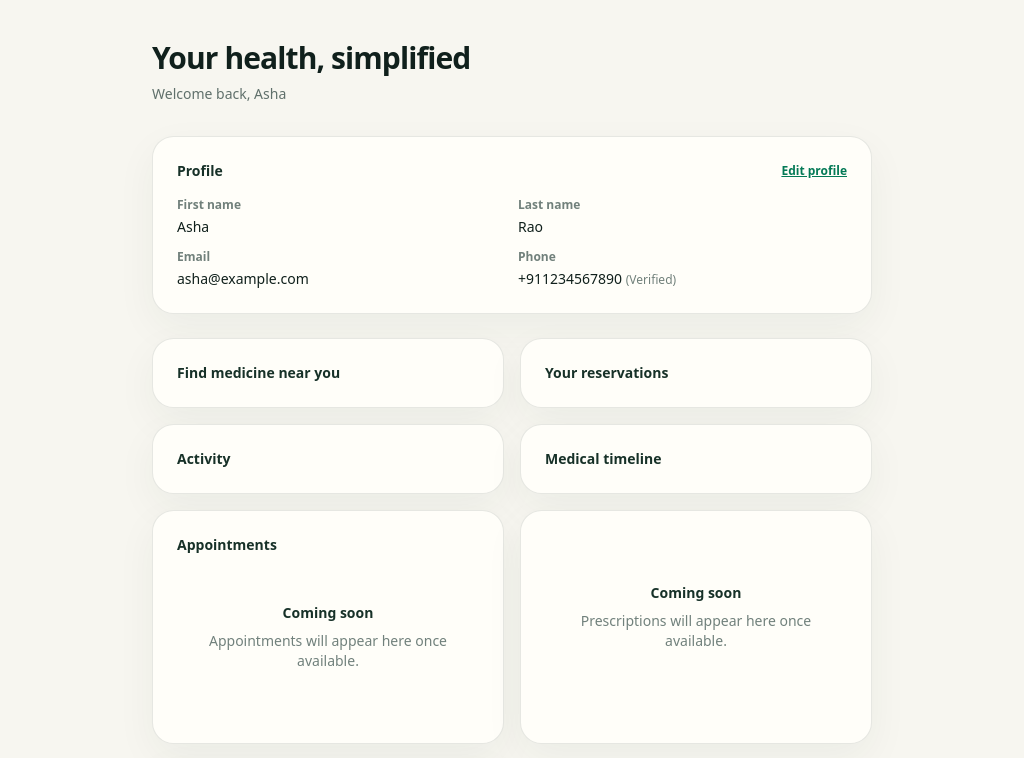
PatientDashboard (candidate Task 0032) › blocks submission with a validation message when first name is cleared
Click the button "Edit profile" at (814, 171), box [781,163,847,179]
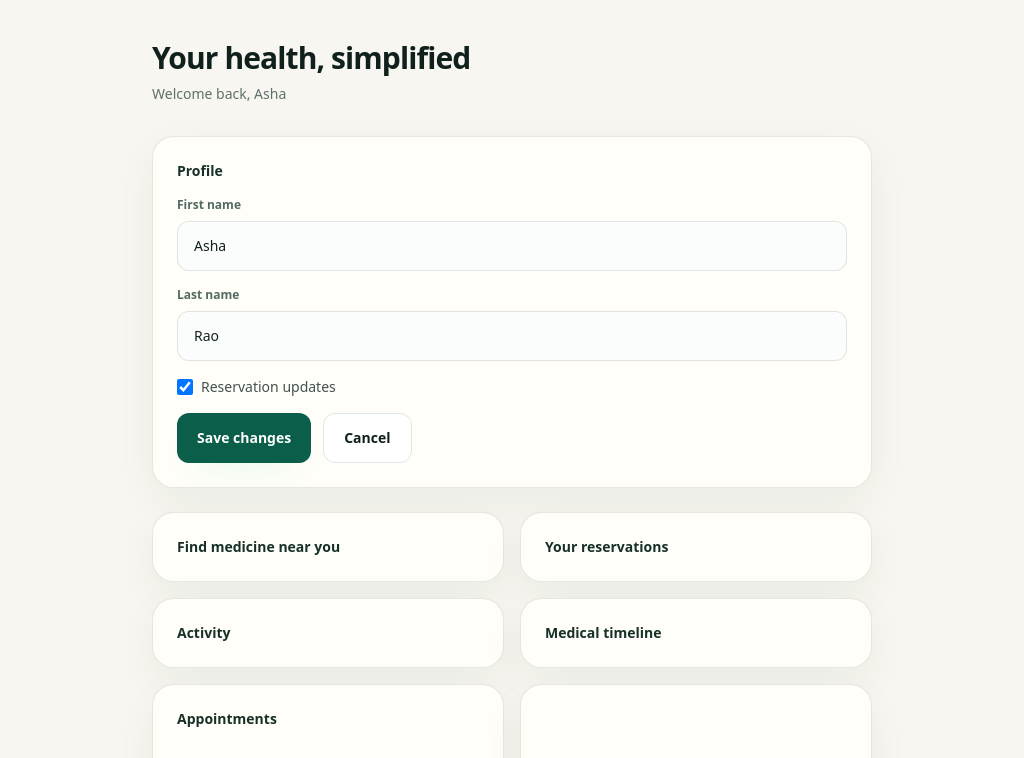
Clear the field labelled "First name" at (512, 246), box [177,221,847,271]
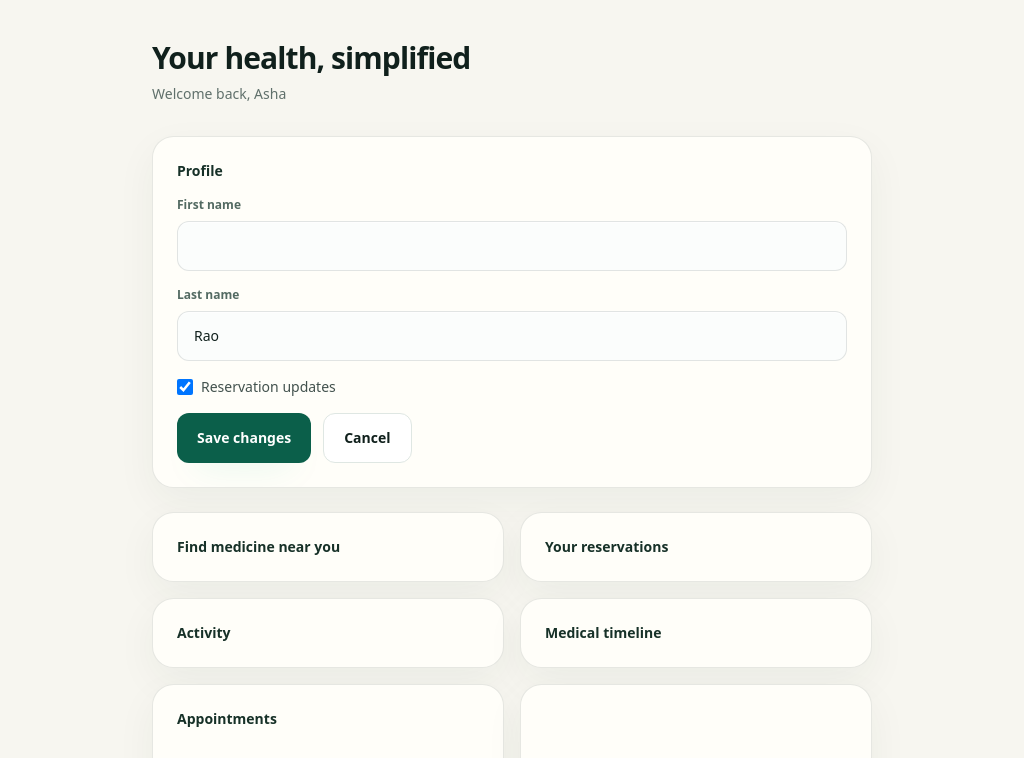
Click the button "Save changes" at (244, 438), box [177,413,311,463]
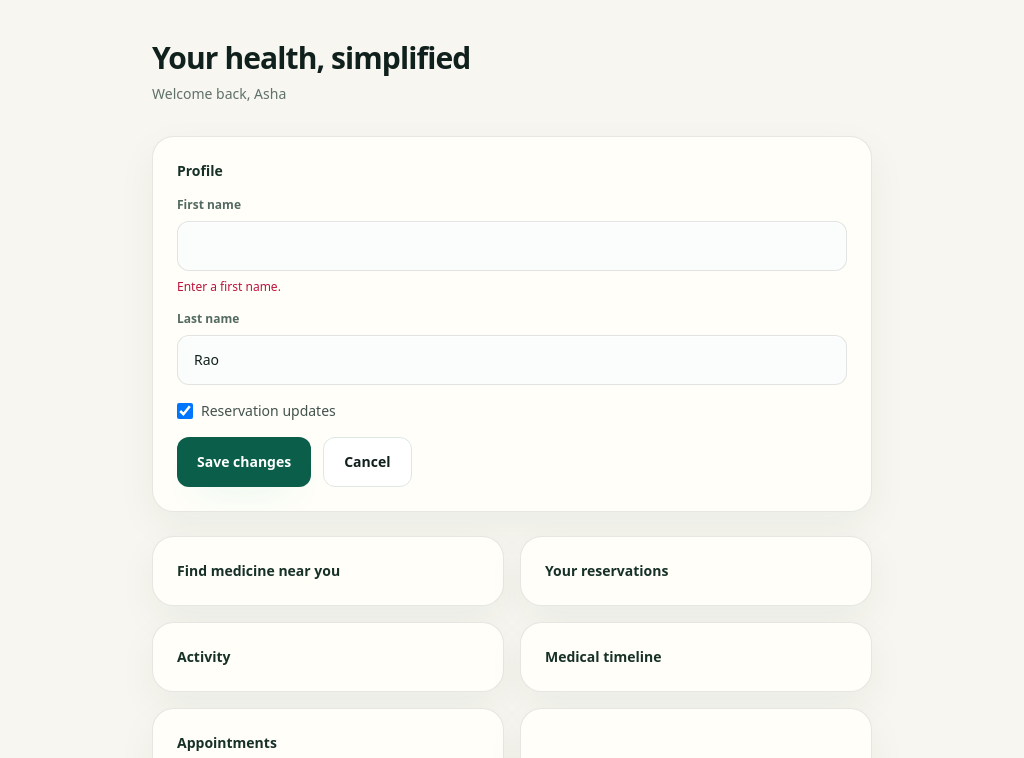
Now the text "Enter a first name." is shown, box [177,278,281,295]
